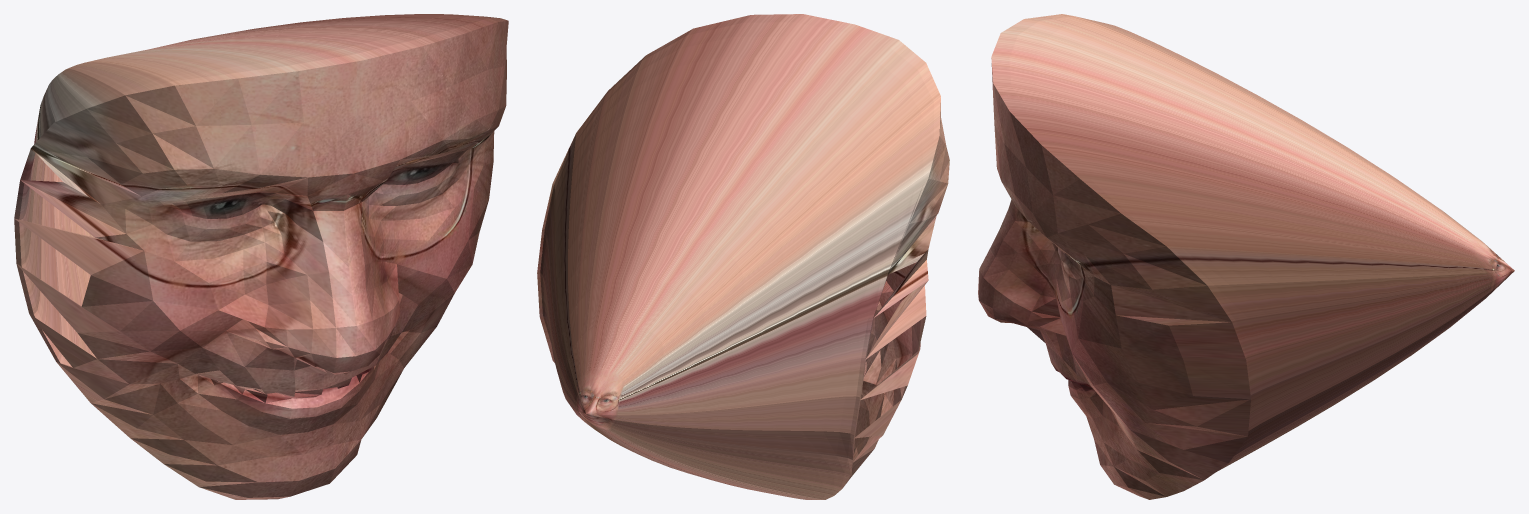
Rendered from cheney_face.glb.
3 views of the same model, side by side, from view 1: azimuth 30°, elevation 25°; view 2: azimuth 150°, elevation 25°; view 3: azimuth 270°, elevation 25° (orthographic). The views are drawn at different scales.
Visible parts, largest first — view 1: geometry_0; view 2: geometry_0; view 3: geometry_0.
Part boxes in pixels (bbox=[...]): geometry_0: bbox=[14, 14, 508, 499]; geometry_0: bbox=[537, 14, 949, 499]; geometry_0: bbox=[978, 14, 1514, 499].
Bounding box in the file's own units: 0.9949 × 1.13 × 1.29.
Materials: 1 (1 with a texture image).
